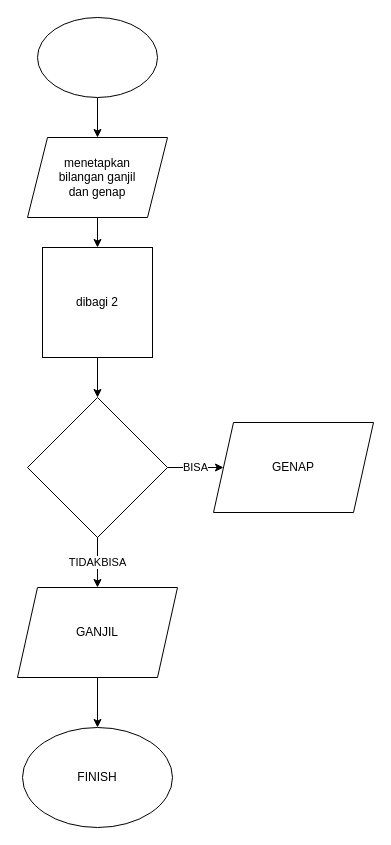
Image size: 391x845. Some labels were removed from this diagram. Each missing label, with the centre of its shape:
BILANGAN DIBAGI DENGAN 2: [97,467]
mulai: [97,57]
